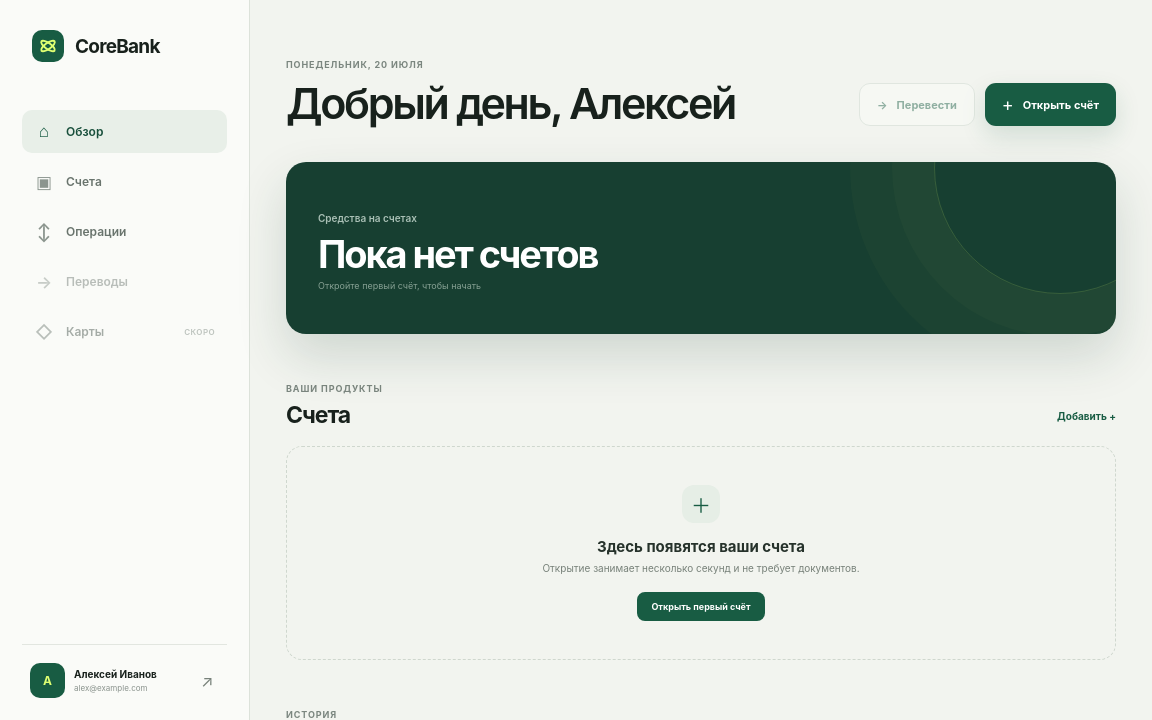
Scenario: dashboard operations › opens a new account
Expected: the heading "Пока нет счетов" is shown, [318,235,597,273]
Click the button "+ Открыть счёт": (1050, 105) [985,83,1116,126]
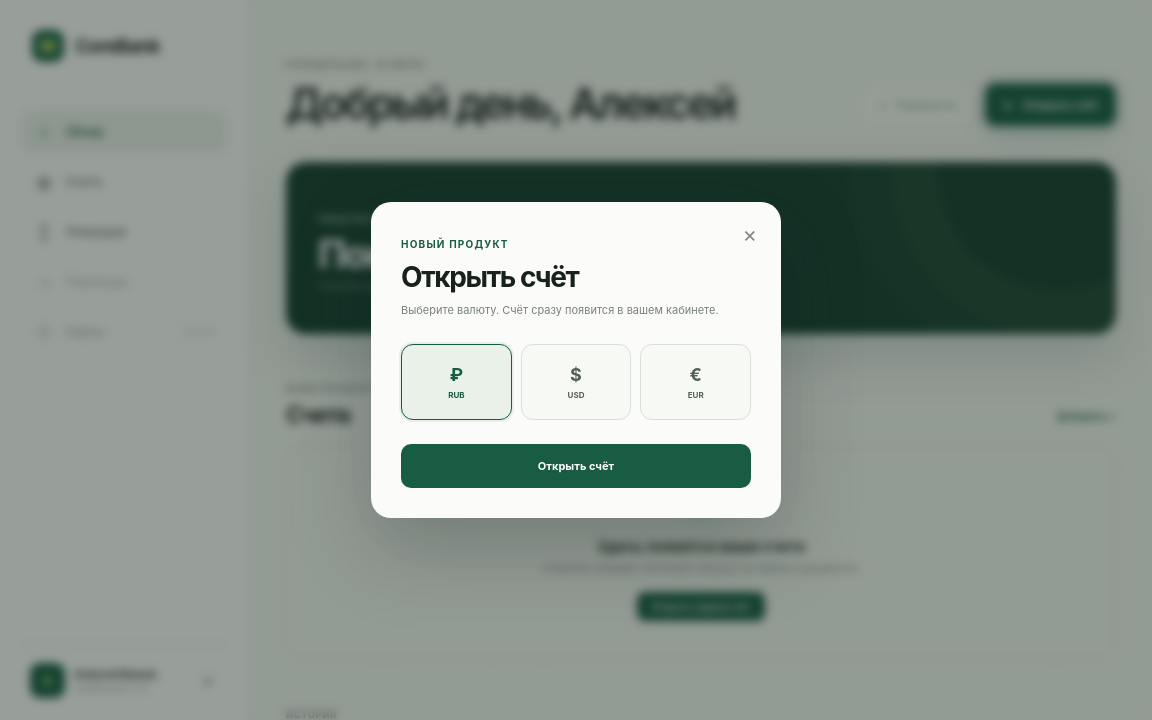
Click the button "$ USD": (576, 382) [521,344,631,420]
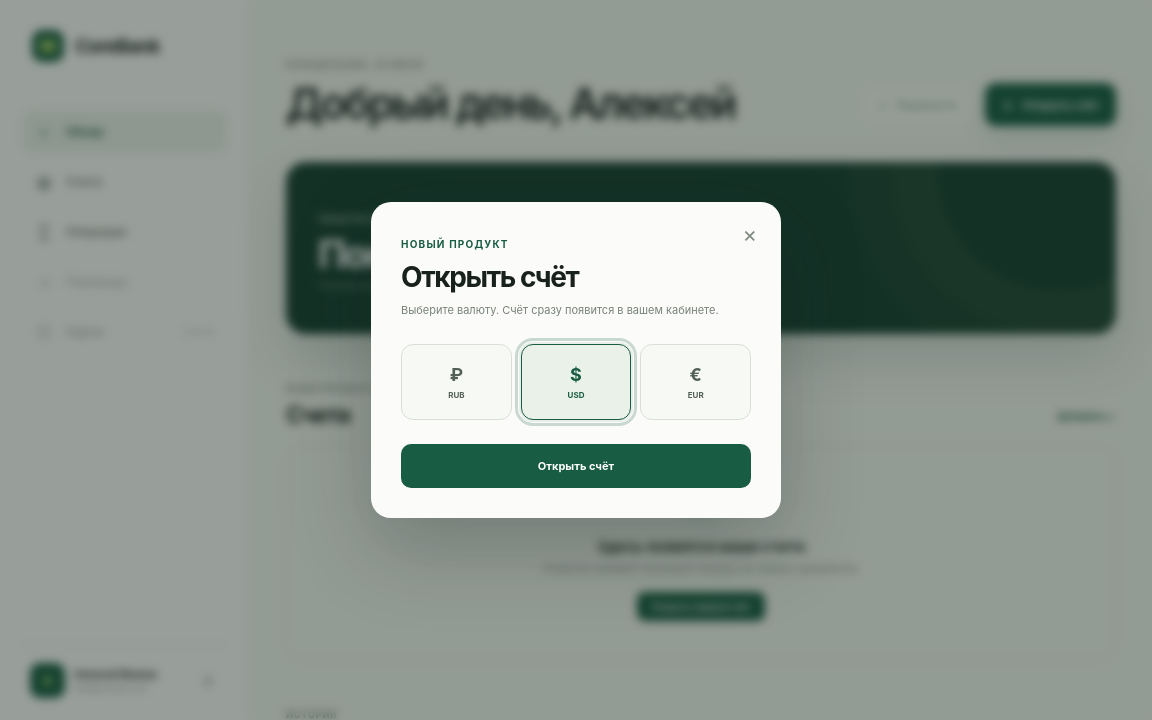
Click the button "Открыть счёт": (576, 466) [401,444,751,488]
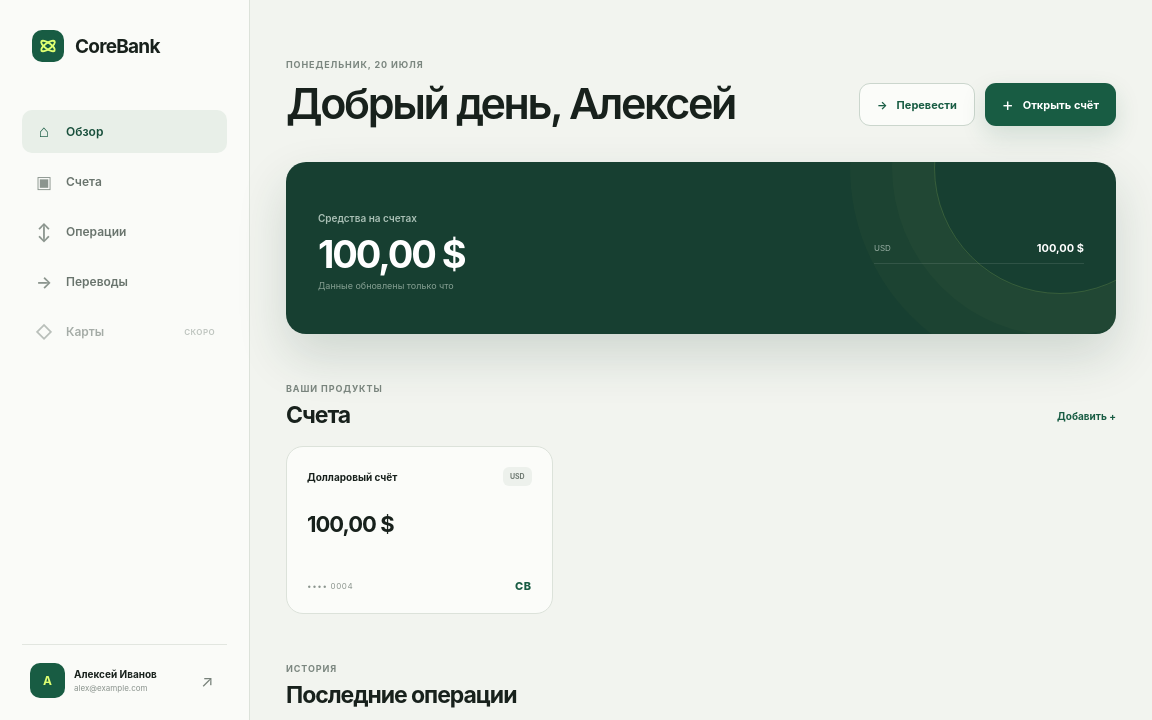
Result: the text "Долларовый счёт" is shown at [307,471,397,483]
